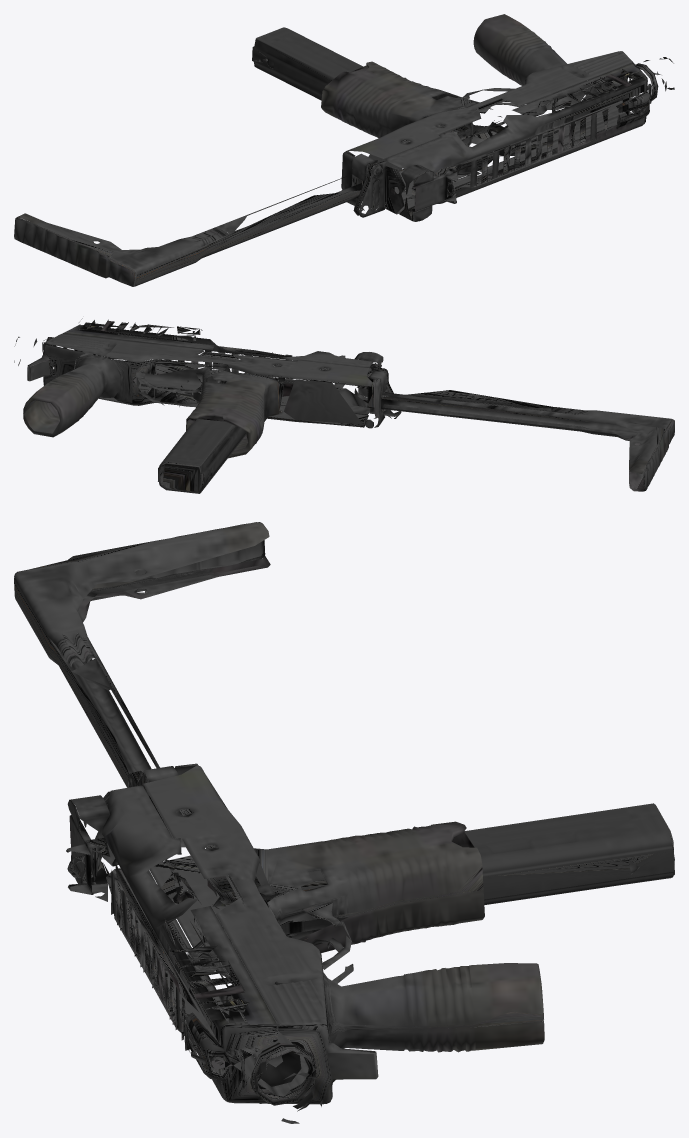
3 views of the same model, one above another, from view 1: azimuth 30°, elevation 25°; view 2: azimuth 150°, elevation 25°; view 3: azimuth 270°, elevation 25° (orthographic). The views are drawn at different scales.
Visible parts, largest first — view 1: w_tmp; view 2: w_tmp; view 3: w_tmp.
Part boxes in pixels (x1,y1,x2,y2): w_tmp: (14, 14, 674, 286); w_tmp: (14, 318, 674, 493); w_tmp: (14, 522, 674, 1123).
Bounding box in the file's own units: 0.7575 × 0.0654 × 0.3943.
Materials: 1 (1 with a texture image).
